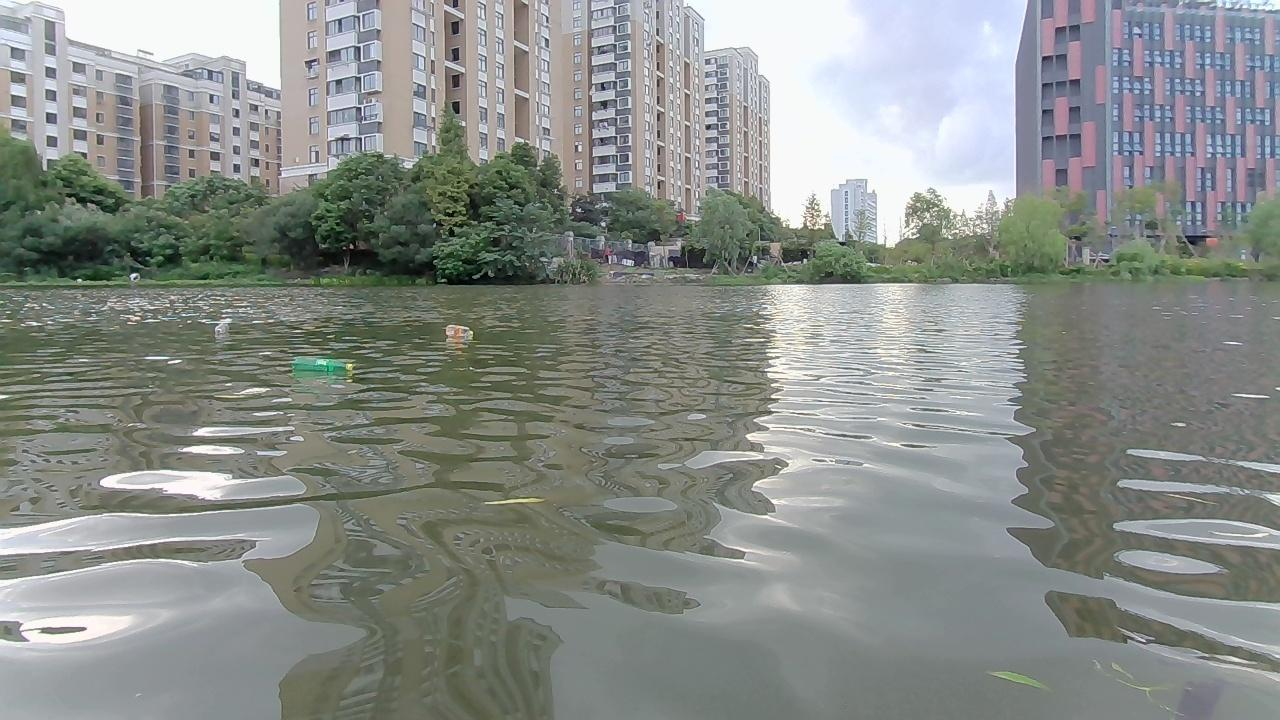bottle: (287, 354, 355, 373), (445, 322, 472, 341), (209, 319, 227, 336)
